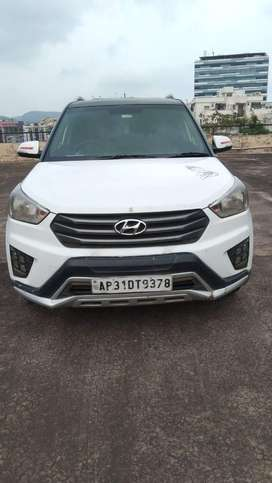AP31DT9378: (90, 276, 173, 292)
